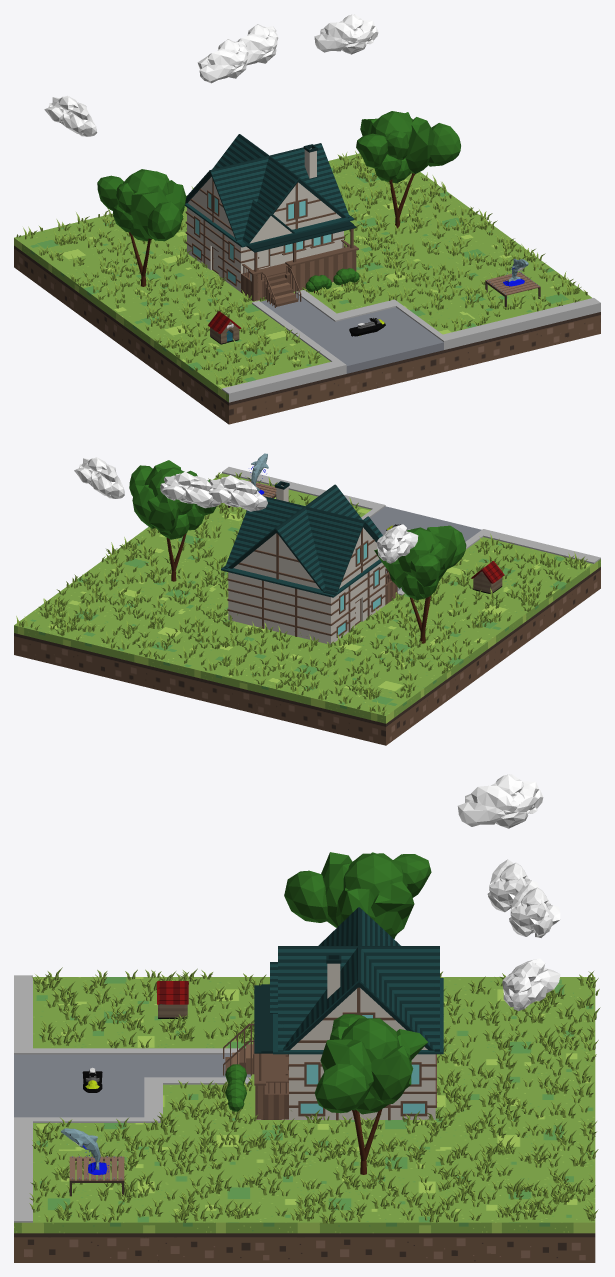
3 renders of one model, top to bottom at view 1: azimuth 30°, elevation 25°; view 2: azimuth 150°, elevation 25°; view 3: azimuth 270°, elevation 25°, orthographic. The views are drawn at different scales.
Parts seen in each view (by area): view 1: Cube.006, Cube.793, Circle.012_Grass_0.192, Cube.007, tree, tree.001, Cube.009, OBJRANDOM_DOGHOUSE; view 2: Cube.006, Cube.793, Circle.012_Grass_0.192, Cube.007, tree.001, tree, OBJRANDOM_DOGHOUSE; view 3: Cube.006, Circle.012_Grass_0.192, Cube.793, tree, Cube.007, tree.001, Cube.009, OBJRANDOM_DOGHOUSE, ANIMAL_DELFIN.
Boxes of the visible parts, x1,y1,x2,y2 form: Cube.006: (14,153,600,424); Cube.793: (185,134,358,307); Circle.012_Grass_0.192: (16,151,587,386); Cube.007: (44,14,378,136); tree: (356,111,460,228); tree.001: (97,169,186,286); Cube.009: (485,272,540,306); OBJRANDOM_DOGHOUSE: (208,311,241,344); Cube.006: (14,467,600,745); Cube.793: (221,481,397,644); Circle.012_Grass_0.192: (16,472,587,715); Cube.007: (74,457,418,563); tree.001: (374,525,466,643); tree: (129,460,216,581); OBJRANDOM_DOGHOUSE: (471,561,504,593); Cube.006: (14,975,595,1262); Circle.012_Grass_0.192: (29,967,600,1223); Cube.793: (223,907,443,1120); tree: (314,1014,428,1174); Cube.007: (457,774,560,1011); tree.001: (284,852,431,938); Cube.009: (69,1156,124,1196); OBJRANDOM_DOGHOUSE: (156,981,188,1018); ANIMAL_DELFIN: (61,1128,108,1175).
Bounding box in the file's own units: 4071 × 2175 × 4040.
Materials: 29 (4 with a texture image).
